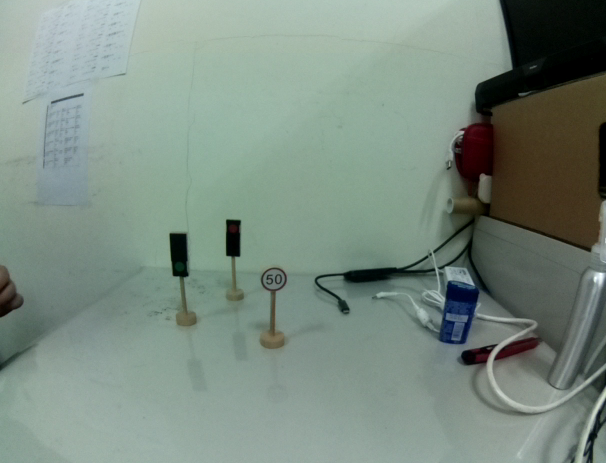Green: (168, 230, 189, 280)
Red: (224, 218, 243, 258)
Speed50: (259, 266, 286, 293)
